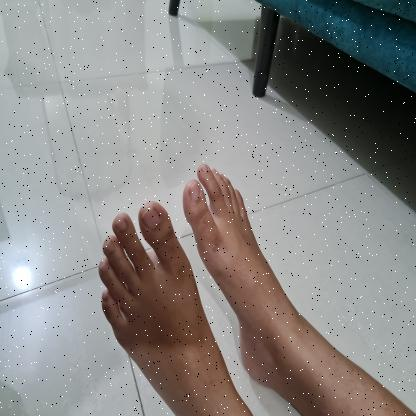leg: (180, 157, 416, 416), (92, 193, 258, 416)
